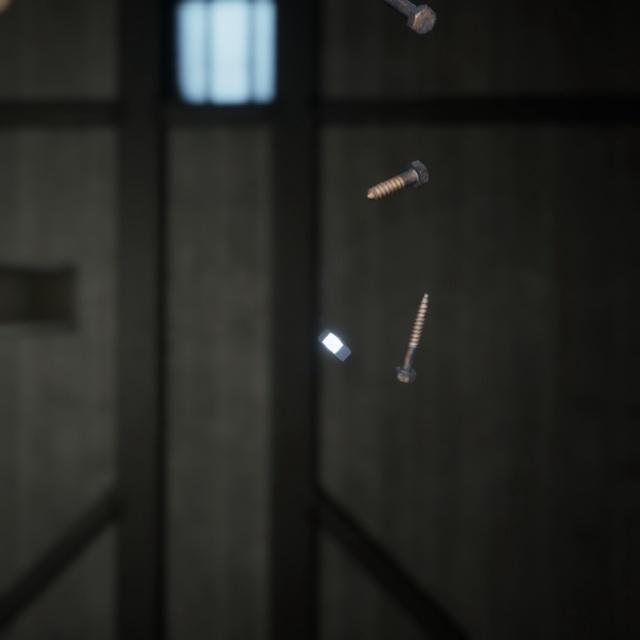bolt: (388, 271, 432, 370), (362, 142, 433, 191), (384, 0, 441, 34)
nut: (315, 305, 357, 347)
